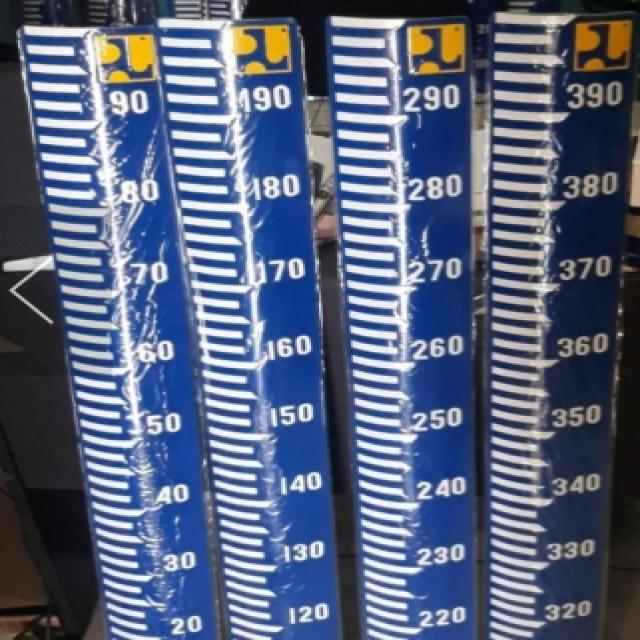staff: (170, 16, 328, 640), (329, 14, 474, 640), (492, 15, 634, 639)
